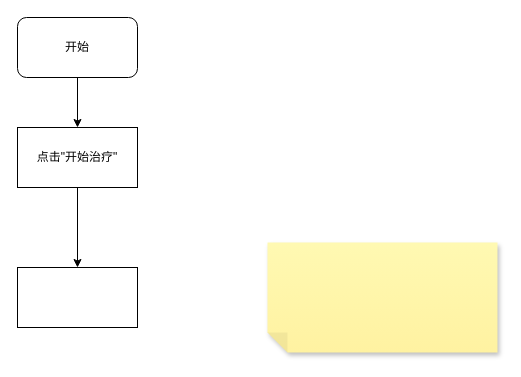
This 521x377 diagram has some shape labels left out. The centre of each missing label's shape, as x and y in pixels:
"flow_brand_static 流水牌-划扣新增一条记录" goes at (x=77, y=297).
"modular=7、 type=0 search_type=0" goes at (x=383, y=298).
